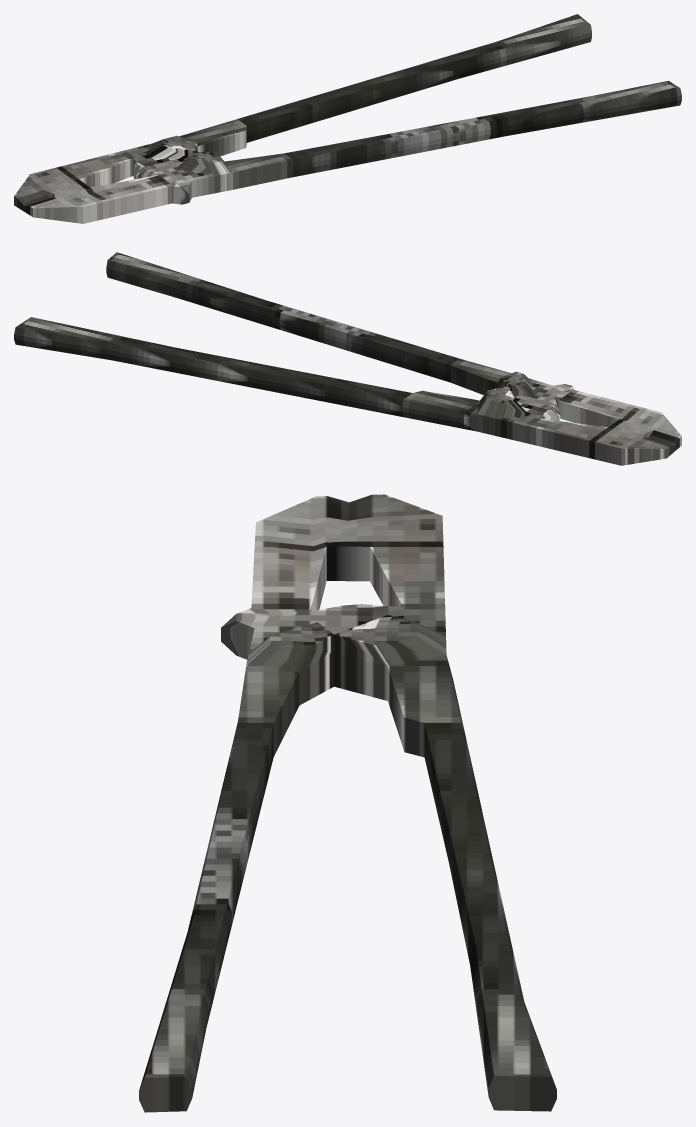
Rendered from Alicatas.fbx.
The picture shows the model from 3 angles, top to bottom: view 1: azimuth 30°, elevation 25°; view 2: azimuth 150°, elevation 25°; view 3: azimuth 270°, elevation 25°; orthographic projection. The views are drawn at different scales.
Visible parts, largest first — view 1: Plane.002; view 2: Plane.002; view 3: Plane.002.
Boxes of the visible parts, box(x1,y1,x2,y2) form: Plane.002: box(14, 14, 681, 223); Plane.002: box(14, 252, 681, 465); Plane.002: box(139, 494, 556, 1112).
Size of the model in its own units: 954 by 38.75 by 285.
Materials: 1 (1 with a texture image).
